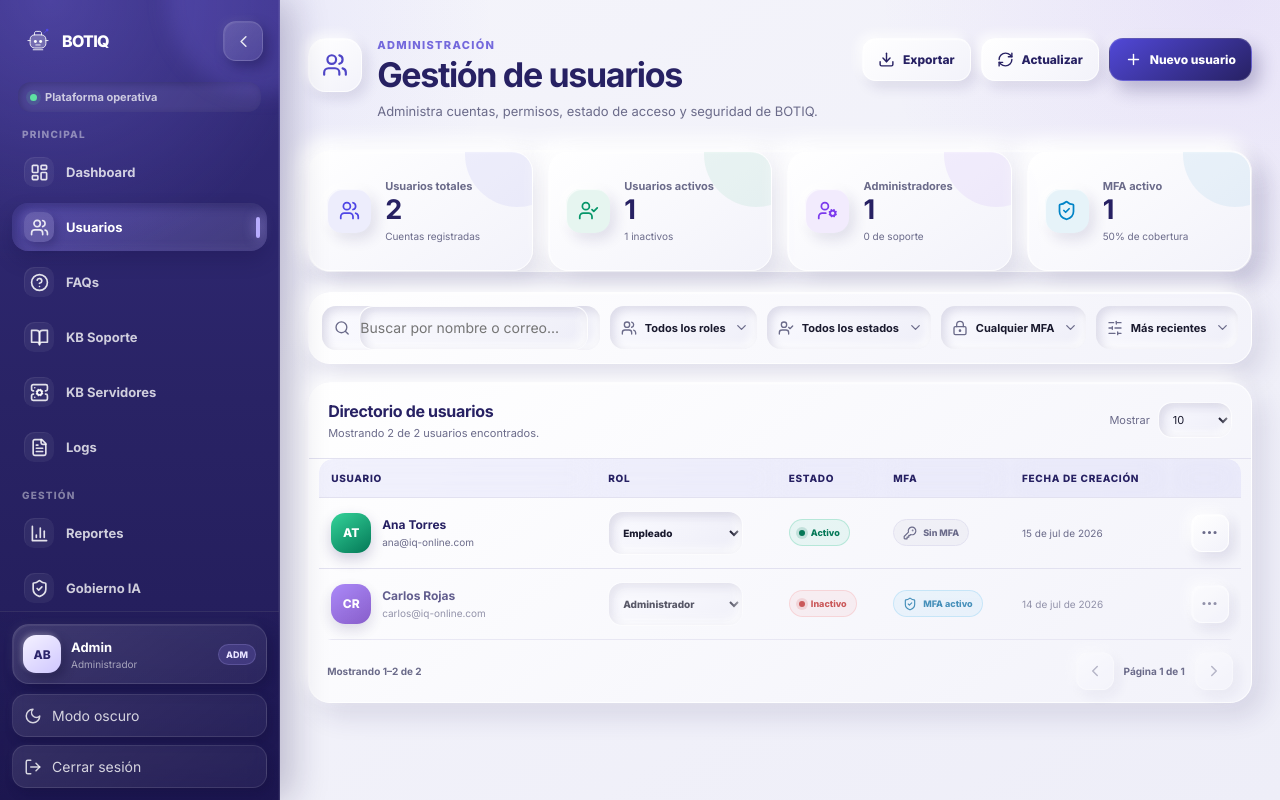
Test case: UsersPage profesional › abre el modal de creación
Step 1. Click the button "Nuevo usuario" → [1180, 60], box [1109,38,1252,81]
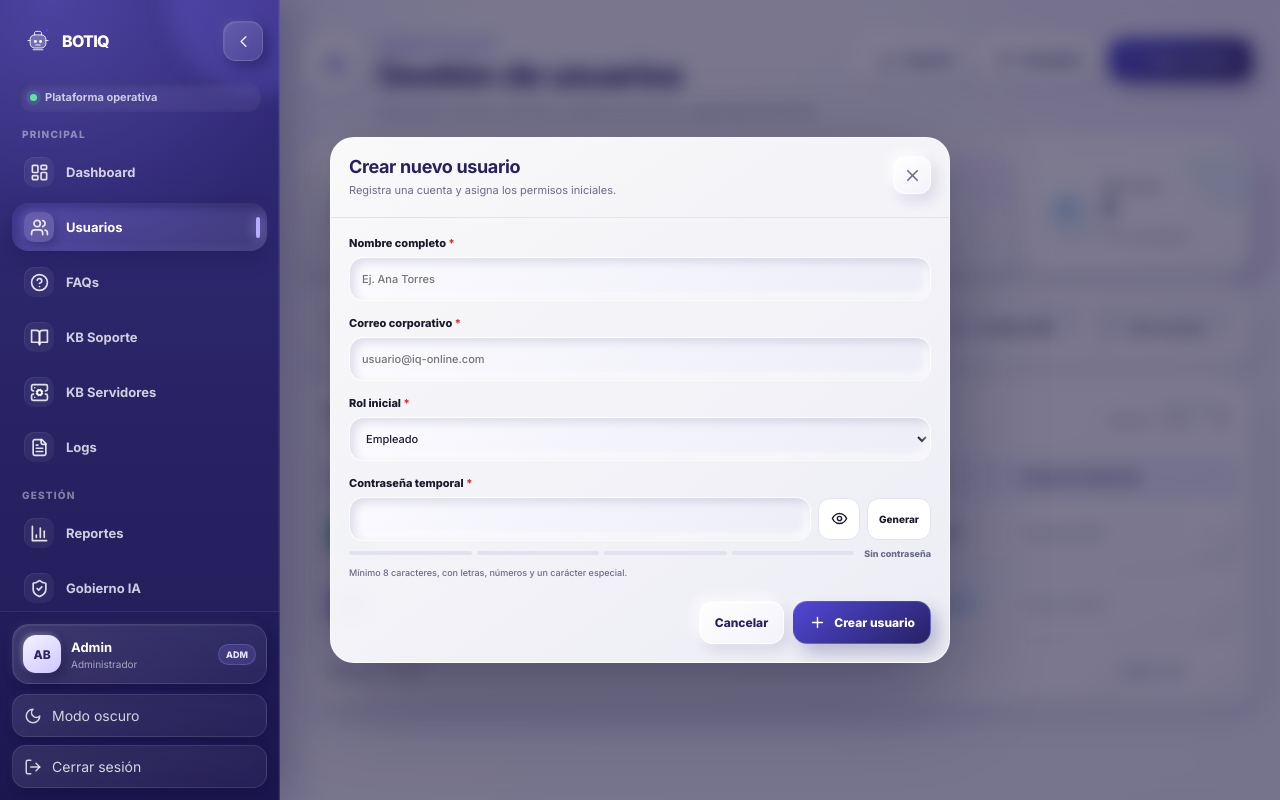
Check: the dialog is shown, box [330,137,950,663]
Check: the heading "Crear nuevo usuario" is shown, box [349,156,520,177]
